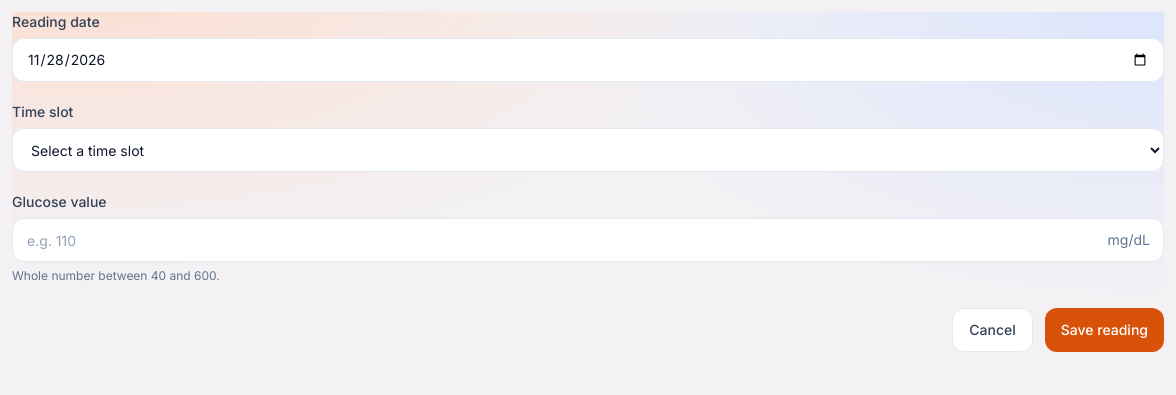
Test case: ReadingForm › rejects a future date
Select "Morning (Fasting)" in the dropdown labelled "Time slot" at (588,150), box [12,128,1164,172]
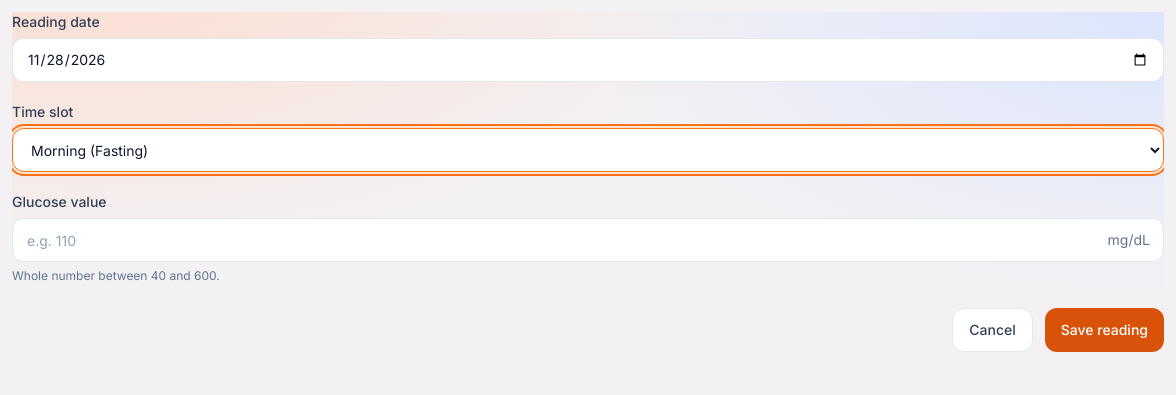
Type "110" into the number field labelled "Glucose value" at (588,240), box [12,218,1164,262]
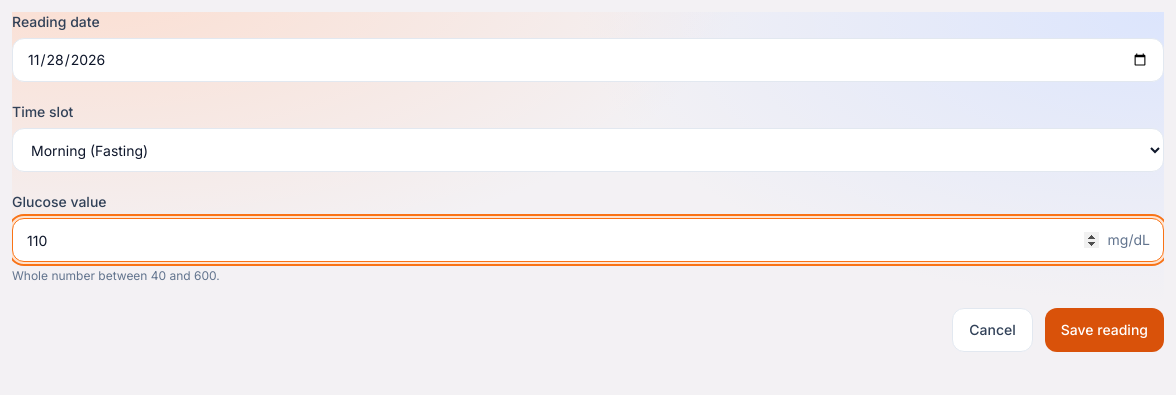
Click the button "Save reading" at (1104,330), box [1045,308,1164,352]
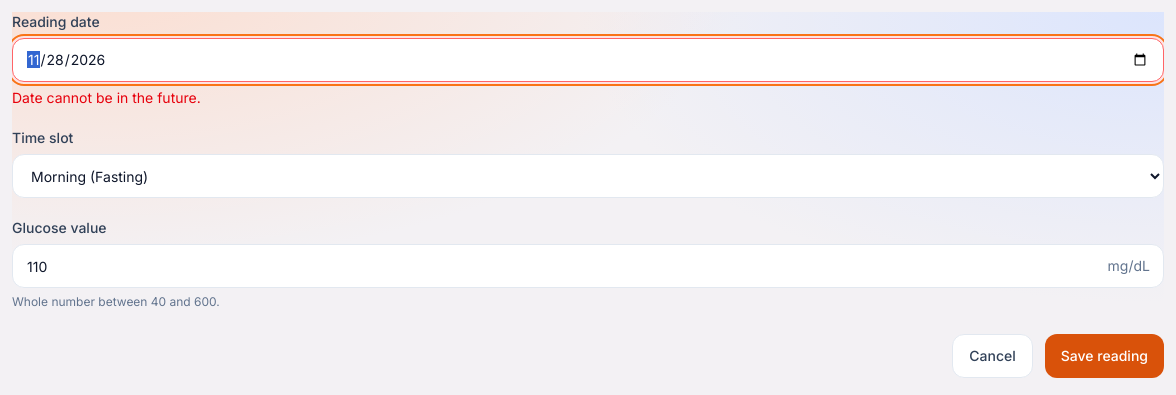
Expected: the text "Date cannot be in the future." is shown, [12,89,201,106]
